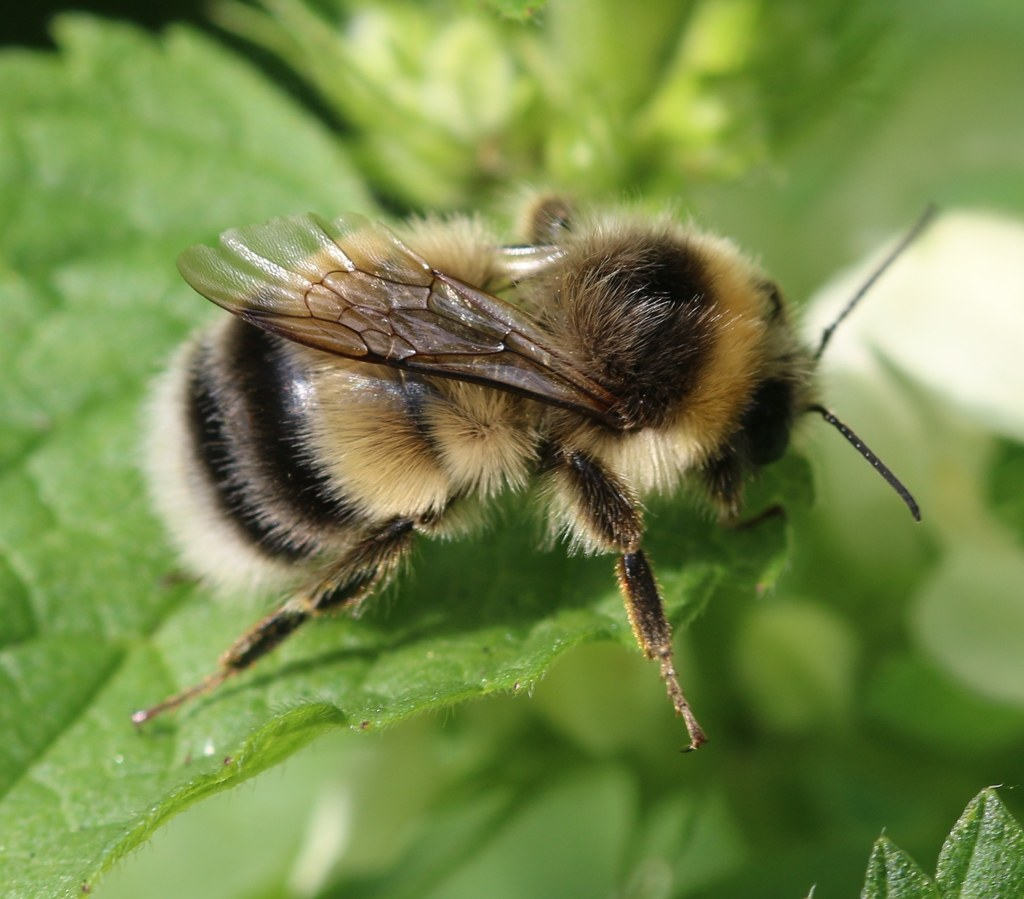bee: (133, 177, 939, 756)
